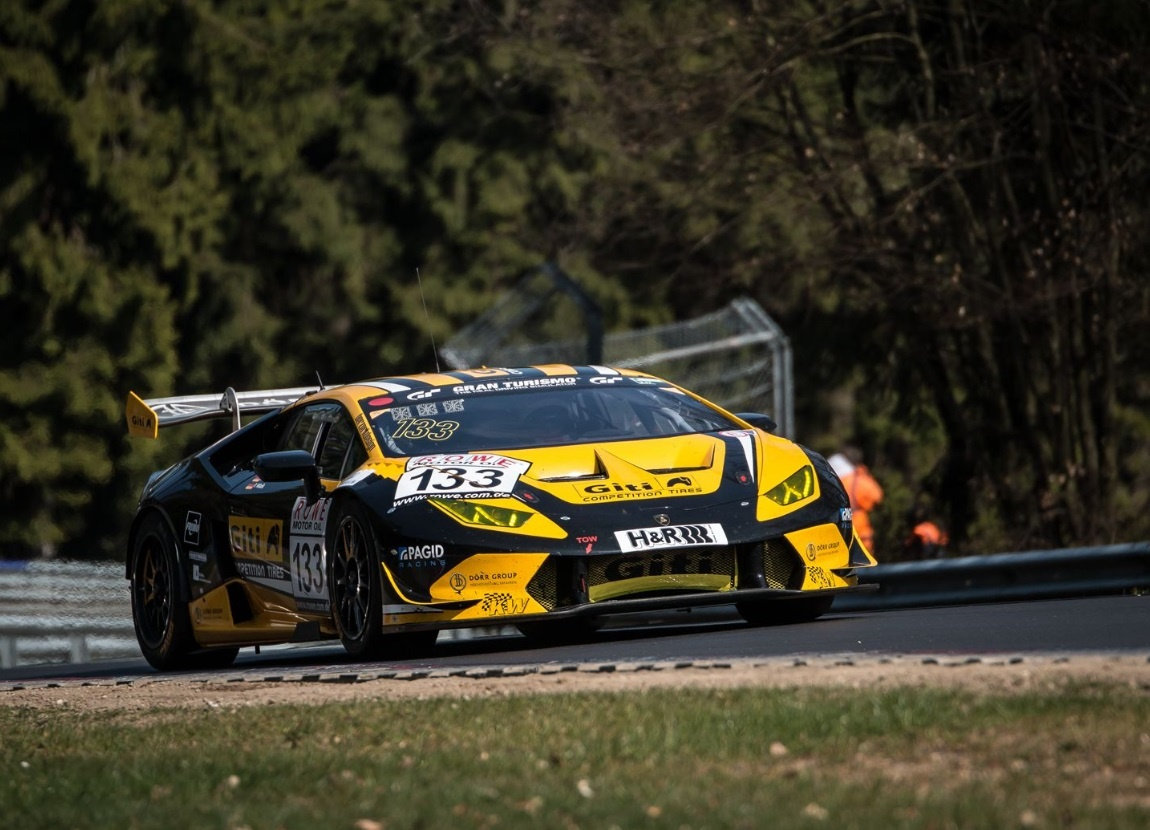racing car: (119, 304, 862, 657)
